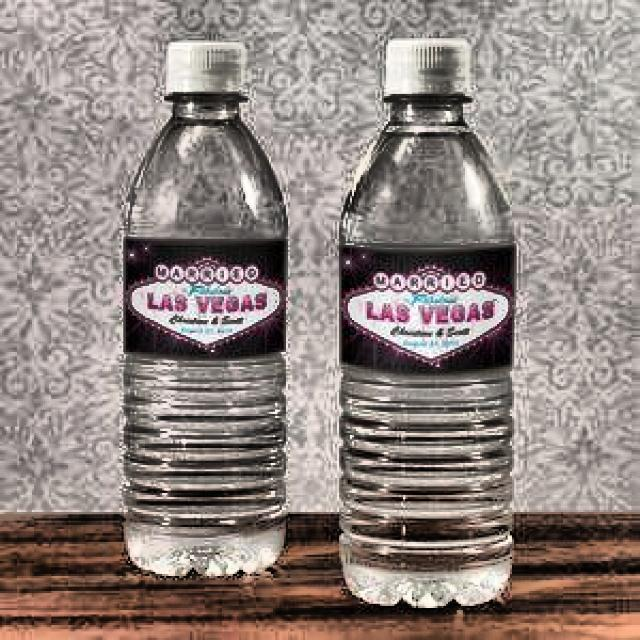Bottles: (315, 34, 550, 620), (98, 27, 304, 594)
